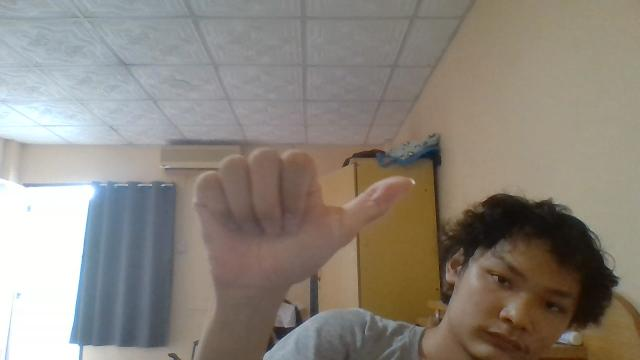left: (192, 145, 416, 303)
